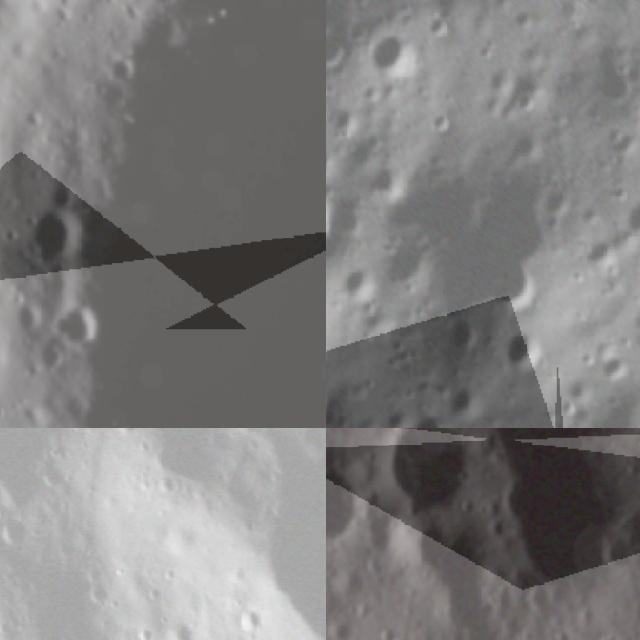crater: (374, 165, 570, 333), (401, 502, 523, 640), (255, 428, 326, 640), (362, 428, 485, 524), (5, 200, 90, 269), (326, 454, 374, 560), (43, 289, 111, 357), (481, 255, 546, 321), (487, 321, 553, 386), (367, 28, 433, 90), (590, 527, 640, 591), (586, 57, 640, 115), (588, 336, 638, 391), (508, 116, 556, 172), (576, 232, 628, 283), (344, 121, 390, 178), (443, 374, 494, 424), (326, 192, 375, 243), (366, 156, 415, 205), (536, 180, 584, 228), (19, 0, 114, 23), (338, 259, 387, 299), (326, 22, 357, 82), (441, 308, 484, 351), (0, 511, 36, 562), (397, 405, 463, 428), (560, 369, 600, 406), (614, 192, 640, 246), (326, 100, 362, 138), (425, 105, 458, 137), (421, 9, 453, 41), (553, 388, 585, 420), (582, 621, 635, 640), (161, 611, 195, 640), (346, 16, 374, 48), (387, 0, 446, 9)
